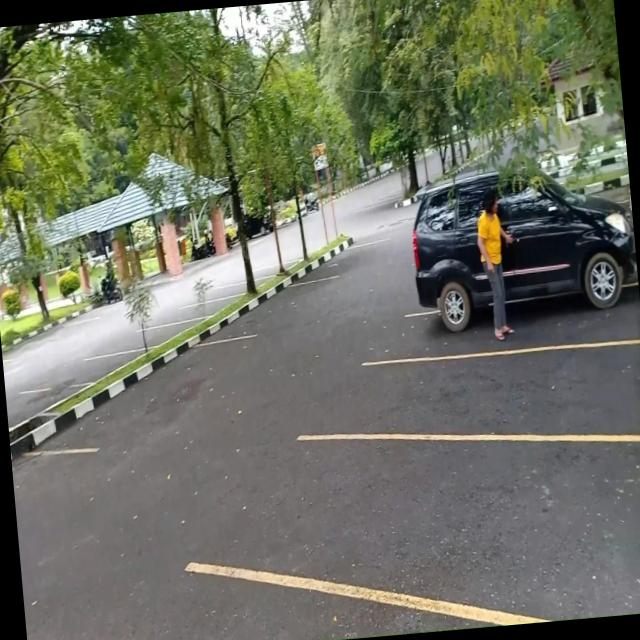car: (397, 177, 640, 361)
free: (282, 418, 640, 640), (366, 341, 640, 464), (17, 343, 266, 472), (234, 278, 339, 336), (56, 352, 132, 388), (6, 386, 72, 426), (117, 324, 187, 354), (170, 297, 237, 323), (196, 280, 264, 302)
